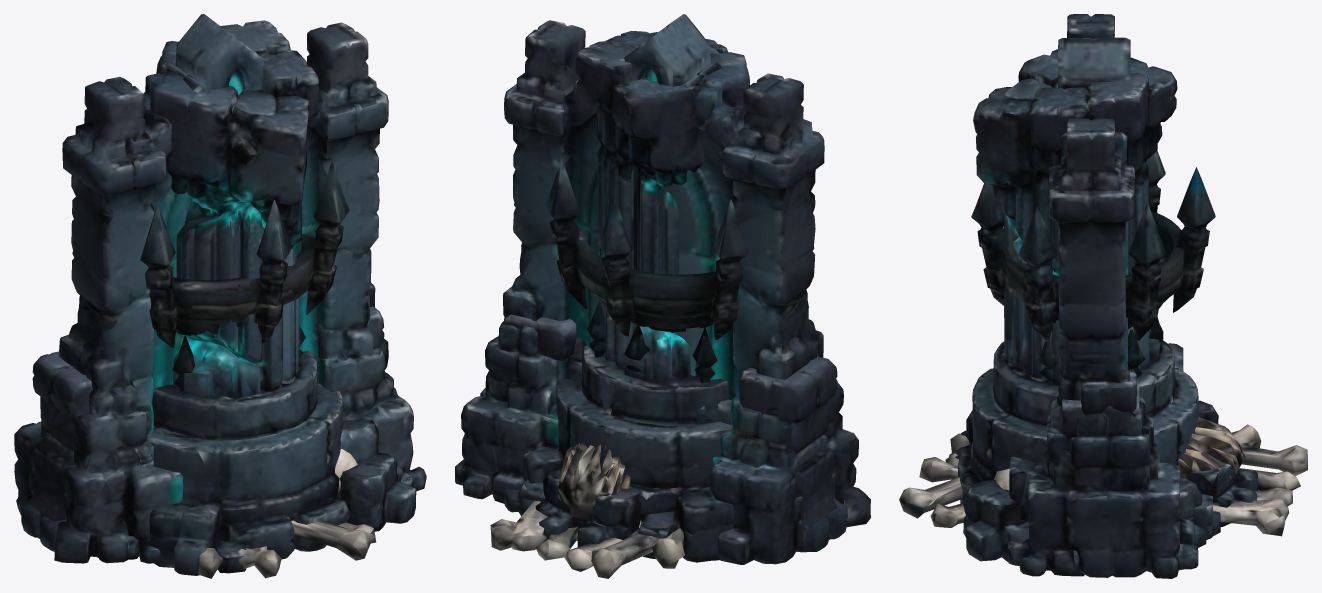
File: props.glb
3 views of the same model, side by side, from view 1: azimuth 30°, elevation 25°; view 2: azimuth 150°, elevation 25°; view 3: azimuth 270°, elevation 25° (orthographic). The views are drawn at different scales.
Visible parts, largest first — view 1: arch, pillar, brazier, wall, bones; view 2: arch, pillar, brazier, wall, bones; view 3: arch, pillar, brazier, bones, wall.
Boxes of the visible parts, x1,y1,x2,y2 form: arch: (14, 14, 426, 563); pillar: (91, 20, 416, 575); brazier: (140, 161, 349, 391); wall: (21, 307, 384, 551); bones: (198, 449, 376, 578); arch: (455, 14, 870, 564); pillar: (504, 31, 749, 562); brazier: (545, 158, 748, 538); wall: (503, 314, 847, 551); bones: (490, 442, 684, 578); arch: (1008, 14, 1212, 578); pillar: (949, 49, 1258, 562); brazier: (971, 150, 1215, 383); bones: (899, 417, 1307, 536); wall: (1062, 379, 1139, 576).
Bounding box in the file's own units: 1.59 × 2.02 × 1.62.
Materials: 1 (1 with a texture image).
